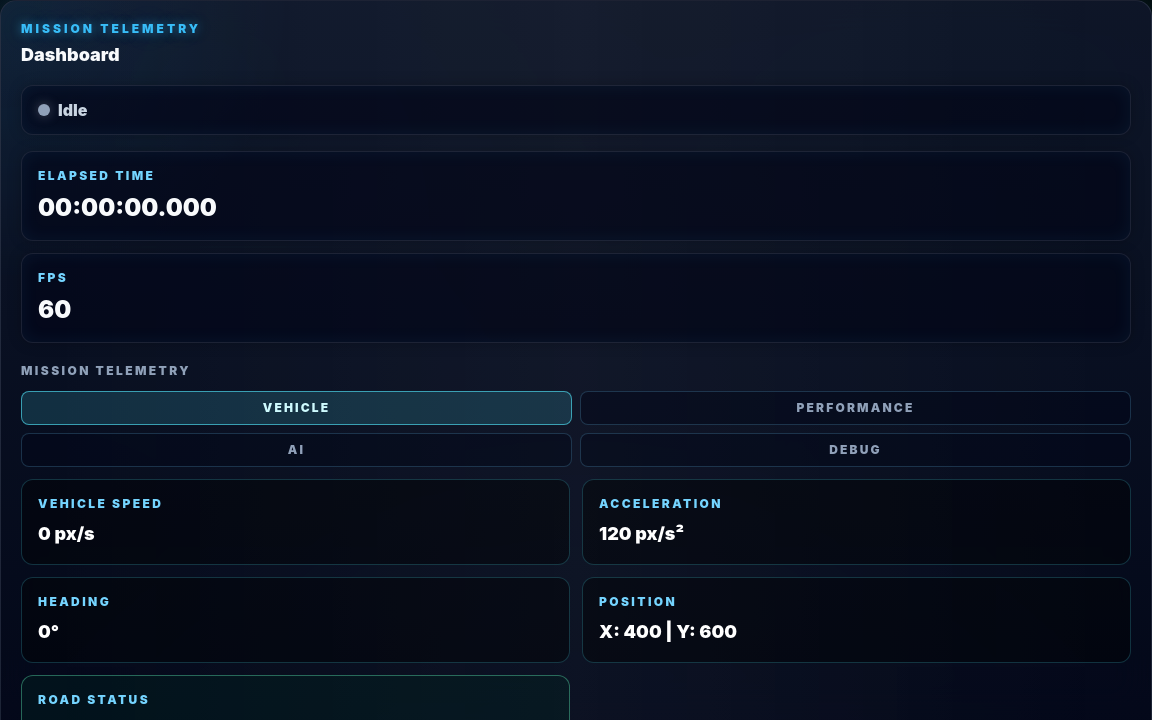
Test: DashboardPanel › renders canvas diagnostics in the performance tab
Click the tab "Performance" at coordinates (856, 408), box [580,391,1131,425]
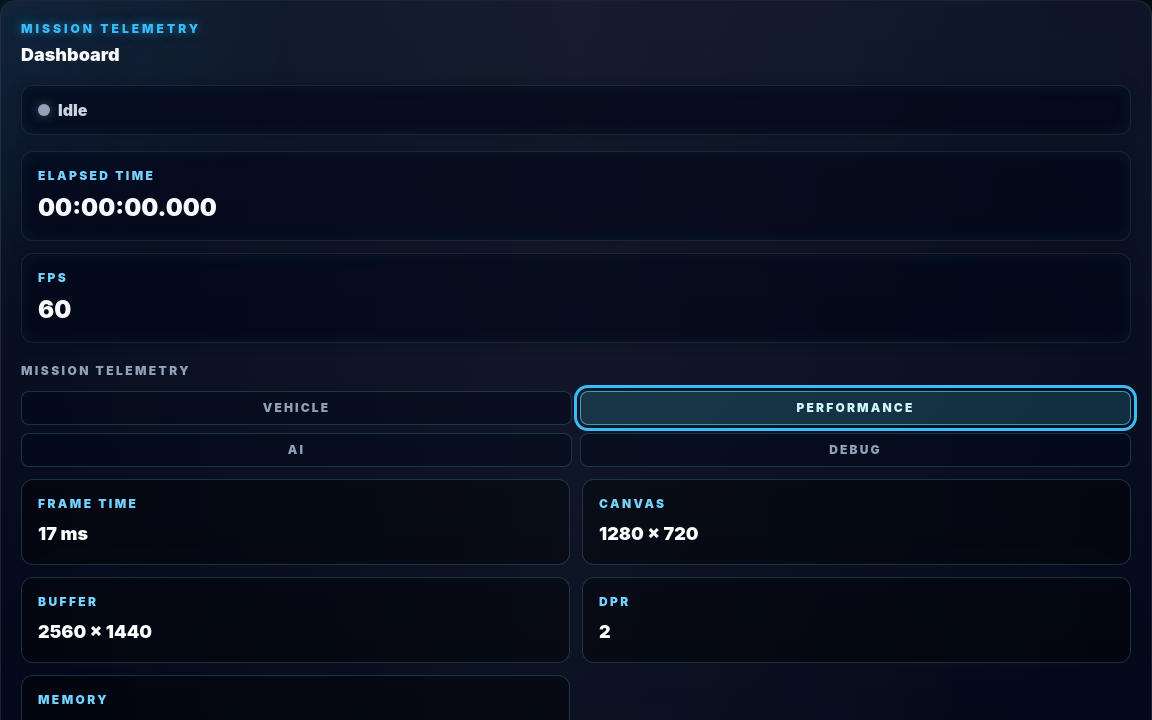
Expected: the text "Frame Time" is shown, [38,496,138,511]
Expected: the text "Canvas" is shown, [599,496,666,511]
Expected: the text "1280 × 720" is shown, [599,523,699,544]
